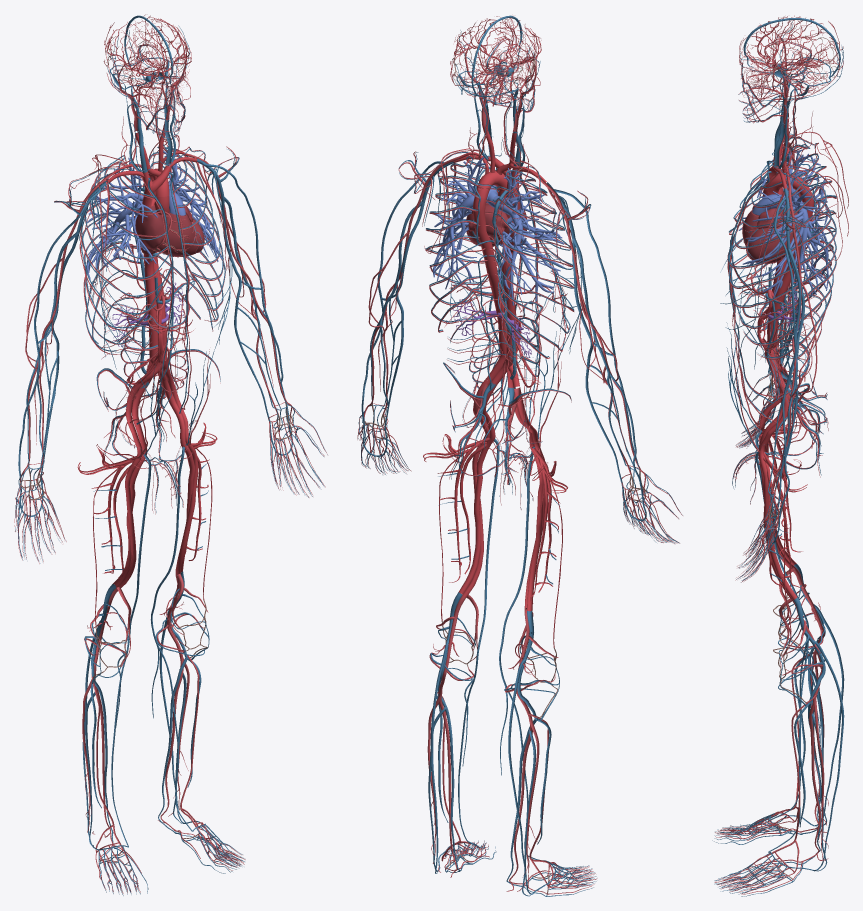
The model's file is cardiovascular.glb.
3 renders of one model, left to right at view 1: azimuth 30°, elevation 25°; view 2: azimuth 150°, elevation 25°; view 3: azimuth 270°, elevation 25°, orthographic. The views are drawn at different scales.
Visible parts, largest first — view 1: veins, arteries, major, pulmonary, heart, other; view 2: veins, arteries, major, pulmonary, other, heart, renal; view 3: veins, arteries, major, pulmonary, heart, other.
Part boxes in pixels (box(x1,y1,x2,y2)): veins: box(15, 15, 327, 895); arteries: box(14, 14, 326, 893); major: box(77, 125, 217, 626); pulmonary: box(86, 150, 222, 279); heart: box(134, 203, 204, 256); other: box(20, 31, 293, 861); veins: box(358, 15, 680, 896); arteries: box(357, 16, 682, 894); major: box(423, 125, 567, 647); pulmonary: box(432, 157, 564, 305); other: box(364, 46, 646, 893); heart: box(465, 201, 527, 252); renal: box(452, 299, 531, 357); veins: box(712, 18, 844, 896); arteries: box(714, 15, 848, 894); major: box(753, 118, 813, 642); pulmonary: box(738, 149, 828, 298); heart: box(742, 194, 800, 263); other: box(743, 35, 839, 879).
Size of the model in its own units: 66.41 by 170 by 24.88.
